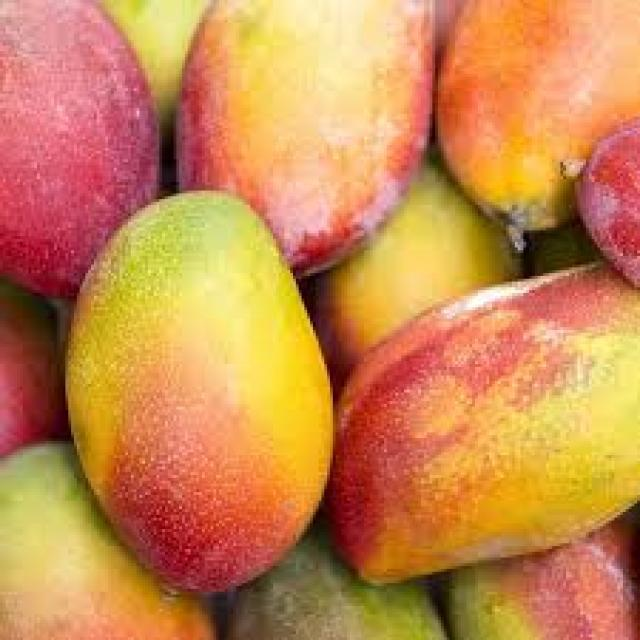Mango: (66, 188, 336, 582), (337, 260, 640, 585), (173, 0, 431, 279), (303, 141, 526, 385), (0, 0, 161, 298), (437, 0, 639, 236), (5, 436, 223, 640), (442, 502, 640, 640), (230, 514, 444, 640), (1, 271, 70, 452), (570, 110, 640, 285)
